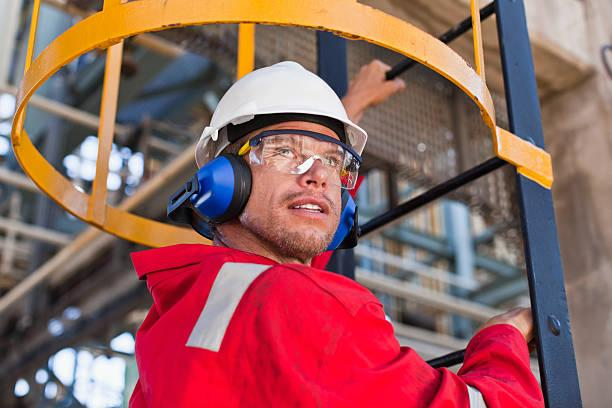capacete: (197, 66, 369, 134)
fone de seguranca: (186, 158, 357, 254)
oculos de protecao: (236, 130, 361, 190)
pessoa: (132, 48, 541, 408)
